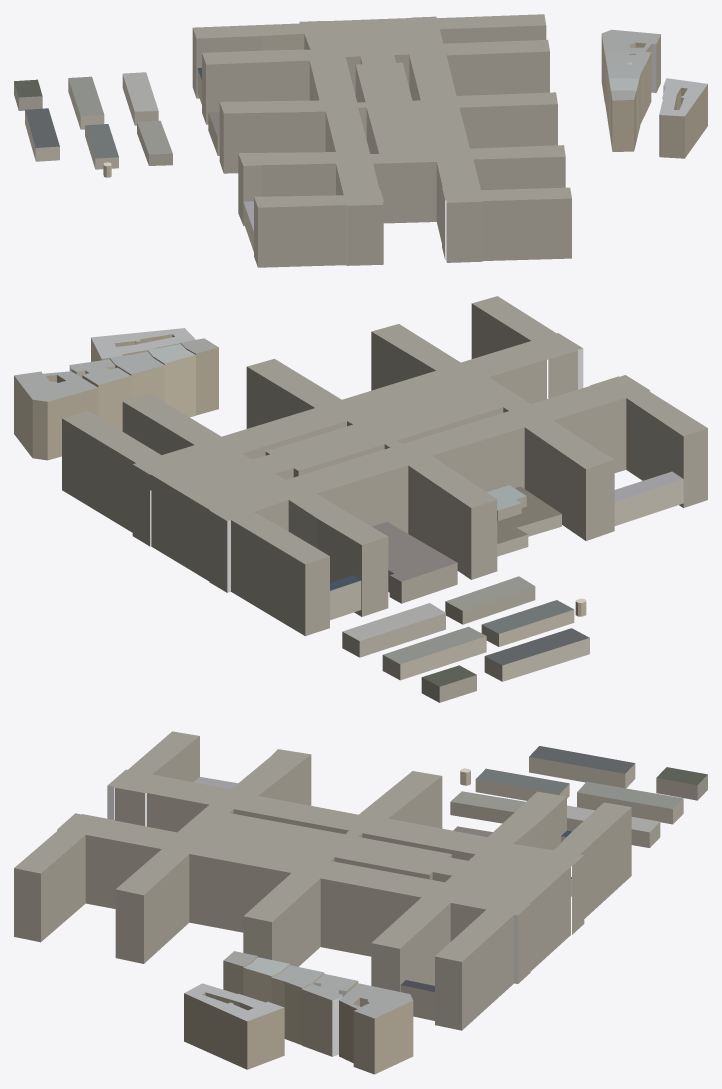
The picture shows the model from 3 angles, top to bottom: view 1: azimuth 30°, elevation 25°; view 2: azimuth 150°, elevation 25°; view 3: azimuth 270°, elevation 25°; orthographic projection. The views are drawn at different scales.
Visible parts, largest first — view 1: tuile; view 2: tuile; view 3: tuile.
Boxes of the visible parts, x1,y1,x2,y2 form: tuile: (14, 14, 707, 267); tuile: (14, 296, 707, 702); tuile: (14, 731, 707, 1074).
Size of the model in its own units: 248 by 25.74 by 235.
